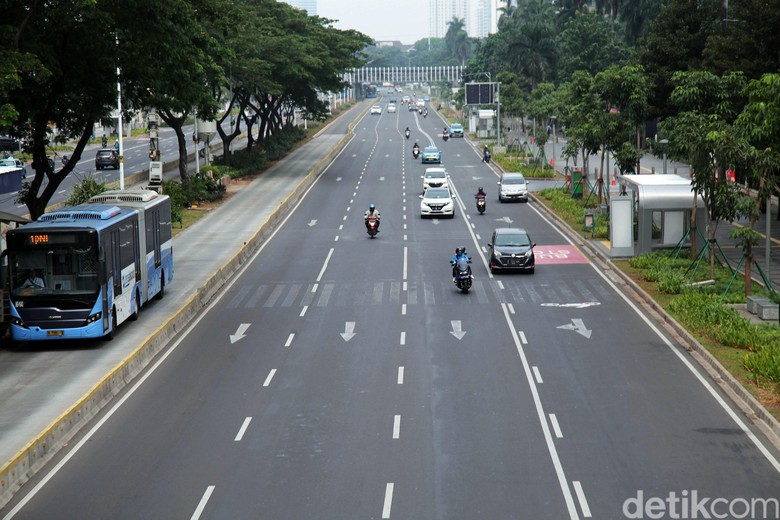car: (4, 189, 178, 350), (490, 229, 536, 276), (421, 187, 456, 217), (499, 172, 528, 206), (423, 168, 449, 195), (96, 149, 118, 172), (422, 145, 442, 165), (450, 123, 463, 139), (370, 106, 382, 115), (387, 103, 395, 114)
motorbike: (453, 246, 475, 294), (363, 204, 384, 241), (475, 189, 487, 213), (483, 145, 493, 165), (413, 143, 420, 160), (404, 126, 411, 141), (101, 135, 107, 149), (443, 128, 448, 143)
